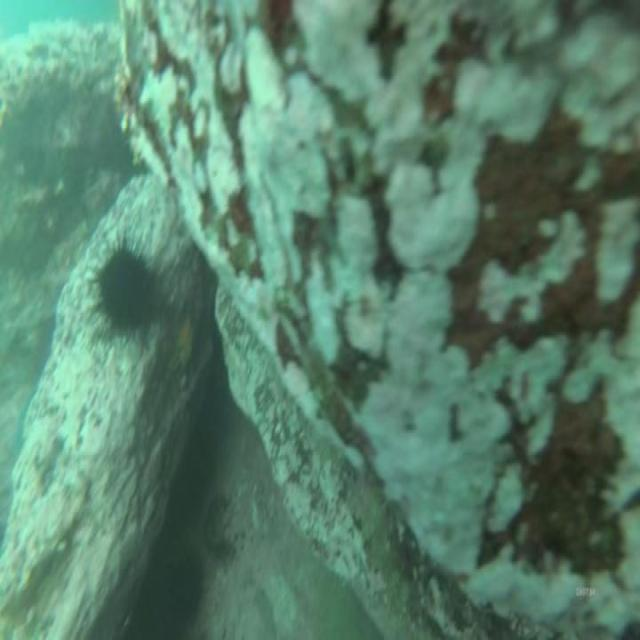echinus: (98, 244, 153, 338)
holothurian: (201, 492, 237, 568)
